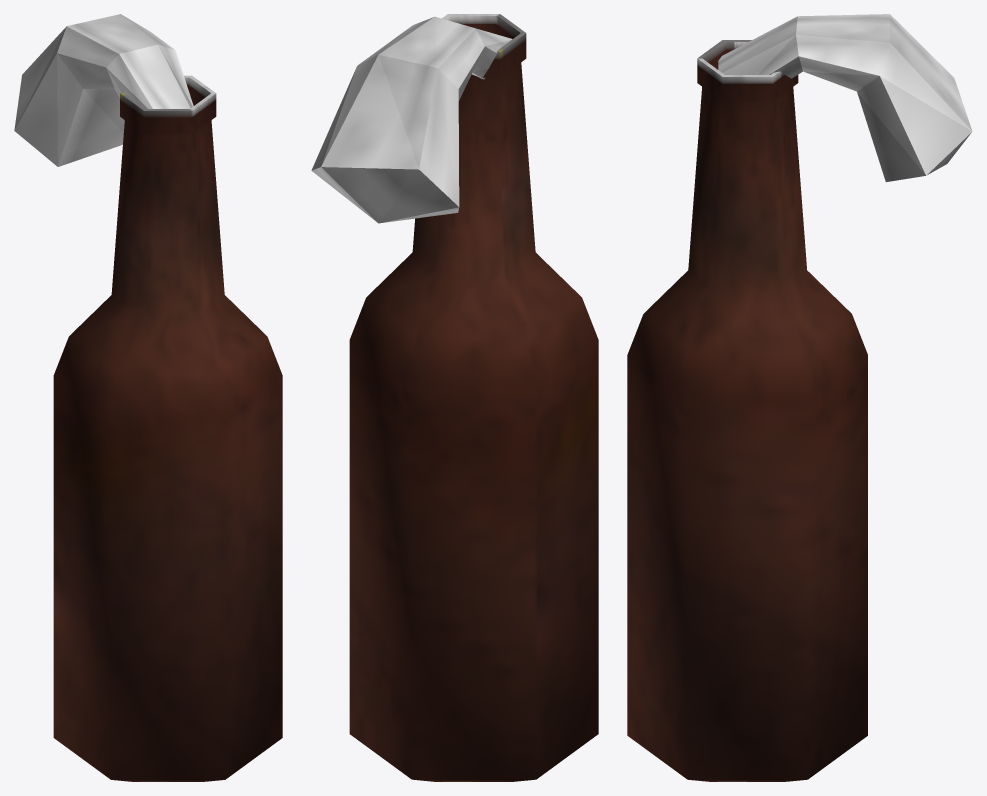
Rendered from Beermolo_Ground.fbx.
3 views of the same model, side by side, from view 1: azimuth 30°, elevation 25°; view 2: azimuth 150°, elevation 25°; view 3: azimuth 270°, elevation 25° (orthographic). The views are drawn at different scales.
Parts seen in each view (by area): view 1: BeerBottle; view 2: BeerBottle; view 3: BeerBottle.
Boxes of the visible parts, left/top/right/bottom form: BeerBottle: left=14, top=14, right=282, bottom=781; BeerBottle: left=311, top=14, right=598, bottom=781; BeerBottle: left=627, top=14, right=972, bottom=781.
Bounding box in the file's own units: 0.1317 × 0.5067 × 0.2181.
